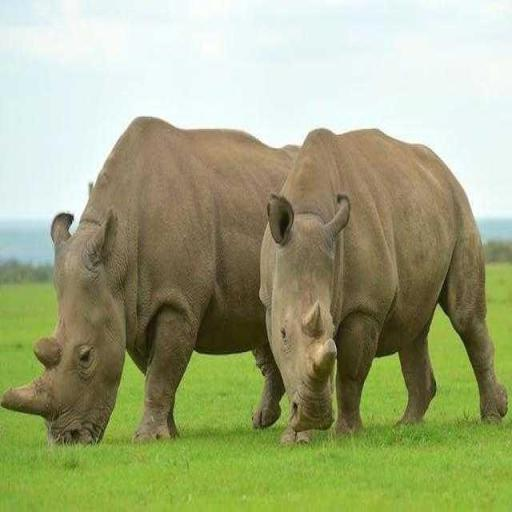Rhino: (0, 113, 302, 448), (258, 124, 508, 446)
